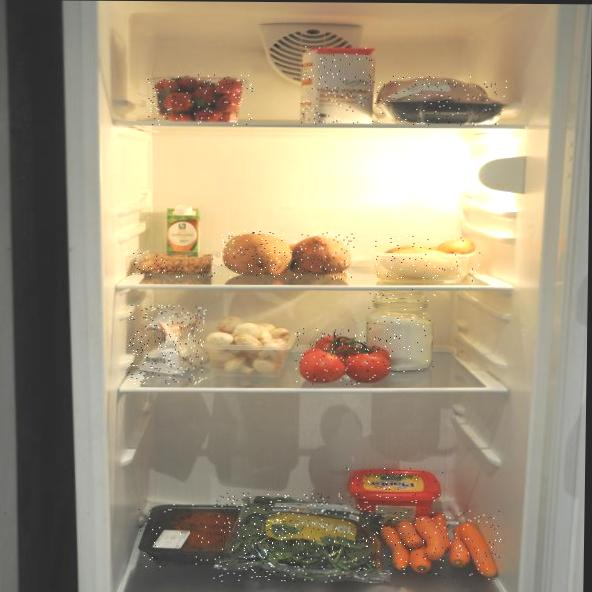beef: (136, 503, 263, 568)
butter: (344, 467, 445, 525)
carrot: (376, 510, 501, 580)
chicken: (374, 76, 508, 126)
flour: (128, 305, 208, 384)
heavy_cream: (166, 204, 201, 270)
mushrooms: (203, 316, 291, 377)
potato: (374, 236, 480, 282)
shrimp: (132, 254, 216, 278)
spinach: (212, 493, 389, 583)
strawberries: (145, 74, 253, 126)
sugar: (367, 288, 438, 372), (301, 46, 376, 125)
sweet_potato: (220, 231, 355, 280)
tomato: (294, 328, 395, 385)
